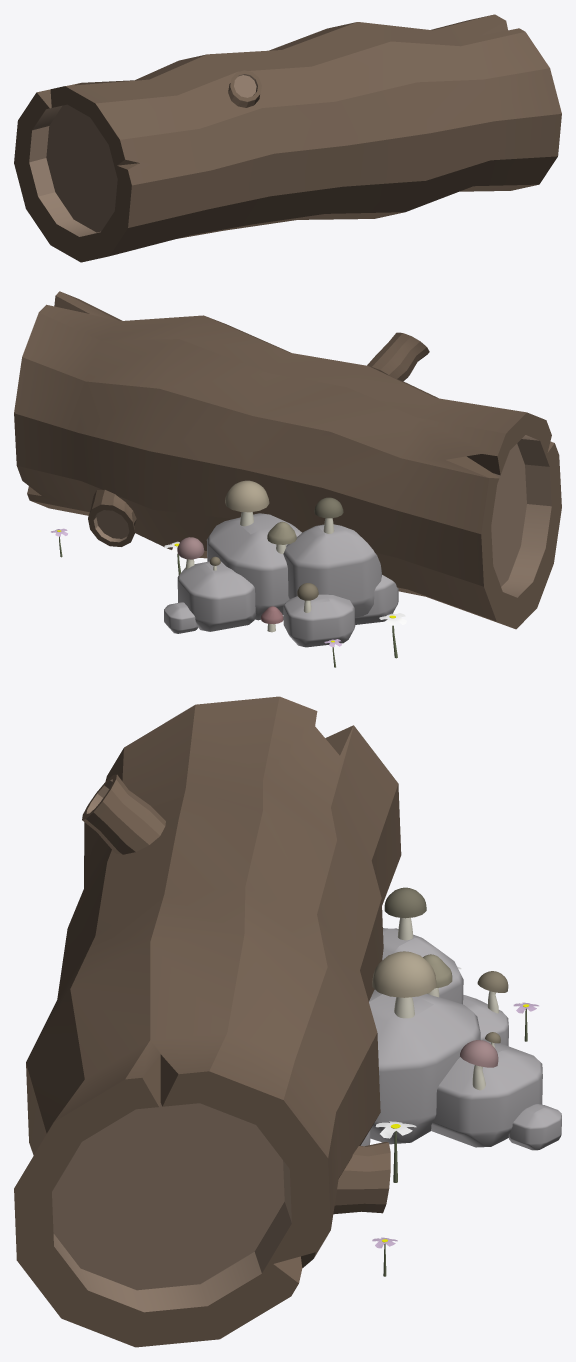
The model's file is liggende boomstam.fbx.
3 renders of one model, top to bottom at view 1: azimuth 30°, elevation 25°; view 2: azimuth 150°, elevation 25°; view 3: azimuth 270°, elevation 25°, orthographic. The views are drawn at different scales.
Parts seen in each view (by area): view 1: group57_pasted__polySurface3; view 2: group57_pasted__polySurface3; view 3: group57_pasted__polySurface3.
Part boxes in pixels (x1=…): group57_pasted__polySurface3: x1=14, y1=14, x2=561, y2=262; group57_pasted__polySurface3: x1=14, y1=291, x2=561, y2=667; group57_pasted__polySurface3: x1=14, y1=696, x2=561, y2=1347.
Bounding box in the file's own units: 3.06 × 1.29 × 1.89.
